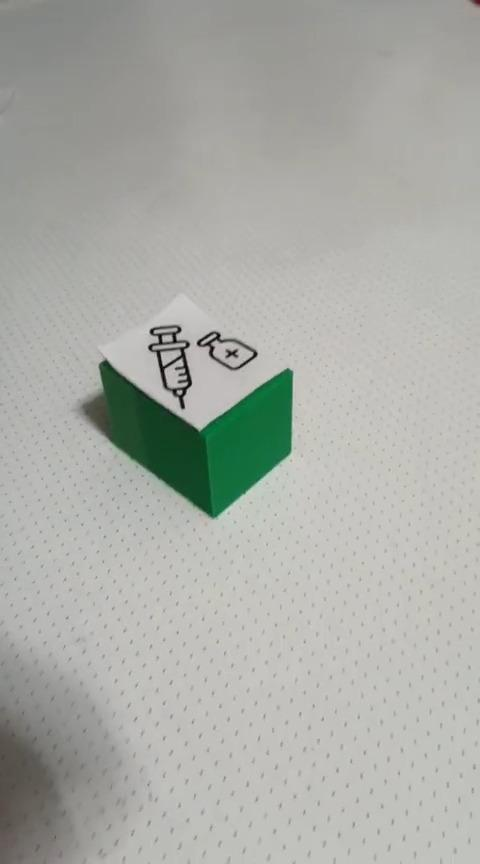antiseptic cream: (96, 291, 294, 519)
